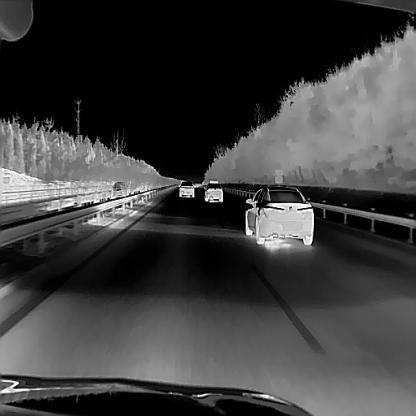car: (245, 185, 314, 244), (204, 178, 223, 201), (178, 179, 194, 197)
